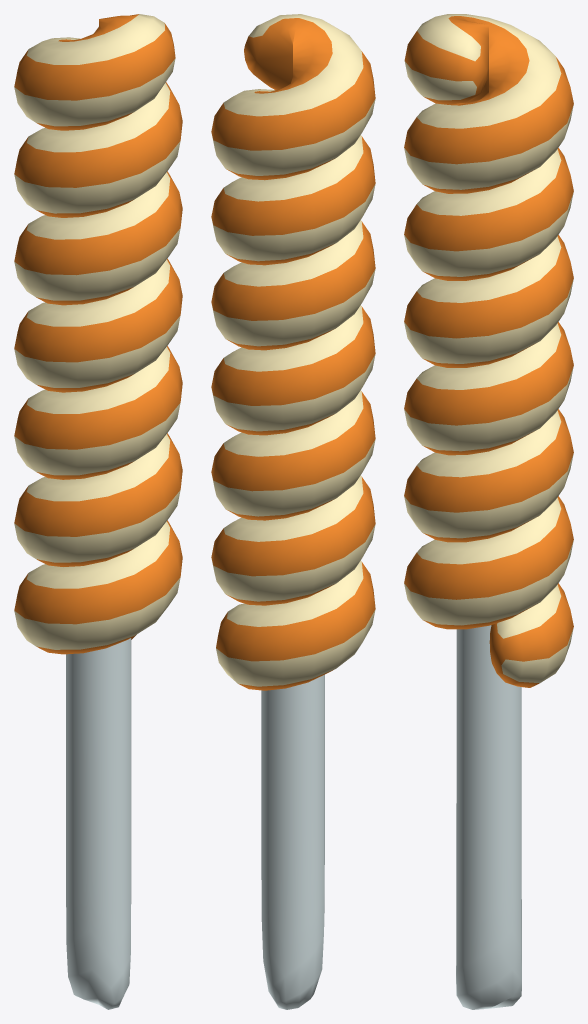
Rendered from Lollipop_D_01.fbx.
The picture shows the model from 3 angles, left to right: view 1: azimuth 30°, elevation 25°; view 2: azimuth 150°, elevation 25°; view 3: azimuth 270°, elevation 25°; orthographic projection. The views are drawn at different scales.
Visible parts, largest first — view 1: Lollipop_D_01_LOD0; view 2: Lollipop_D_01_LOD0; view 3: Lollipop_D_01_LOD0.
Part boxes in pixels (box(x1,y1,x2,y2)): Lollipop_D_01_LOD0: box(14, 14, 182, 1009); Lollipop_D_01_LOD0: box(211, 14, 375, 1009); Lollipop_D_01_LOD0: box(404, 14, 573, 1009).
Size of what is drawn, in the model's own units: 191 by 1231 by 191.
